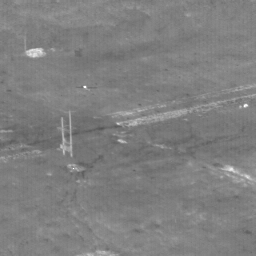aircraft: (84, 86, 86, 88)
